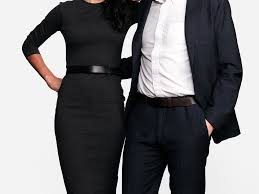F_belt: (129, 88, 206, 113)
F_dress pants: (121, 105, 211, 194)
F_tailored skirt: (53, 75, 125, 194)
